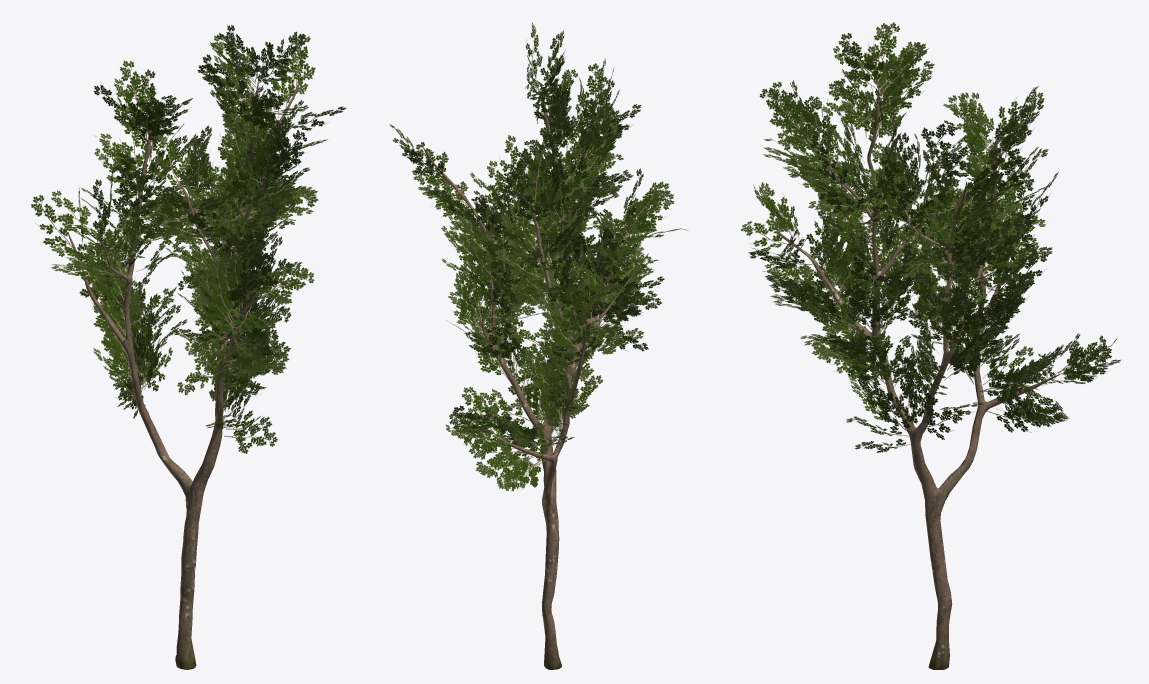
File: arvore-a.glb
The picture shows the model from 3 angles, left to right: view 1: azimuth 30°, elevation 25°; view 2: azimuth 150°, elevation 25°; view 3: azimuth 270°, elevation 25°; orthographic projection. The views are drawn at different scales.
Visible parts, largest first — view 1: Plane.008_ascht_0, Plane.008_Material.002_0; view 2: Plane.008_ascht_0, Plane.008_Material.002_0; view 3: Plane.008_ascht_0, Plane.008_Material.002_0.
Part boxes in pixels (<box>): Plane.008_ascht_0: <box>31,24,346,453</box>; Plane.008_Material.002_0: <box>67,79,300,669</box>; Plane.008_ascht_0: <box>389,22,688,491</box>; Plane.008_Material.002_0: <box>422,91,648,669</box>; Plane.008_ascht_0: <box>740,22,1120,452</box>; Plane.008_Material.002_0: <box>776,85,1062,669</box>.
Size of the model in its own units: 9.18 by 19.67 by 10.94.
2 materials, 2 textured.
